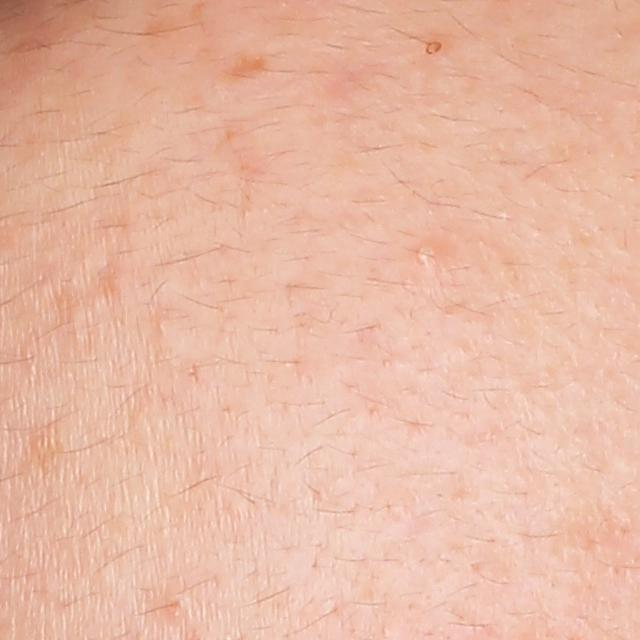comedo: (420, 37, 444, 57)
